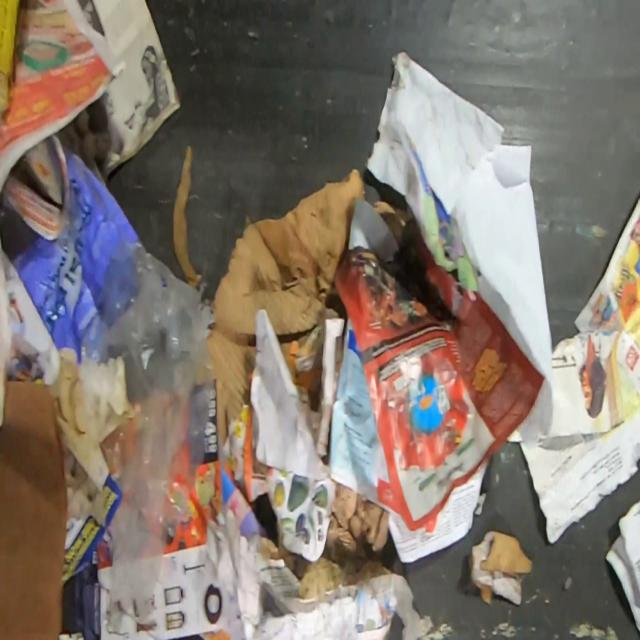cardboard: (208, 168, 367, 452), (0, 380, 68, 639), (258, 478, 395, 600), (468, 530, 534, 606)
soft_plastic: (10, 144, 214, 624), (53, 348, 135, 494)
